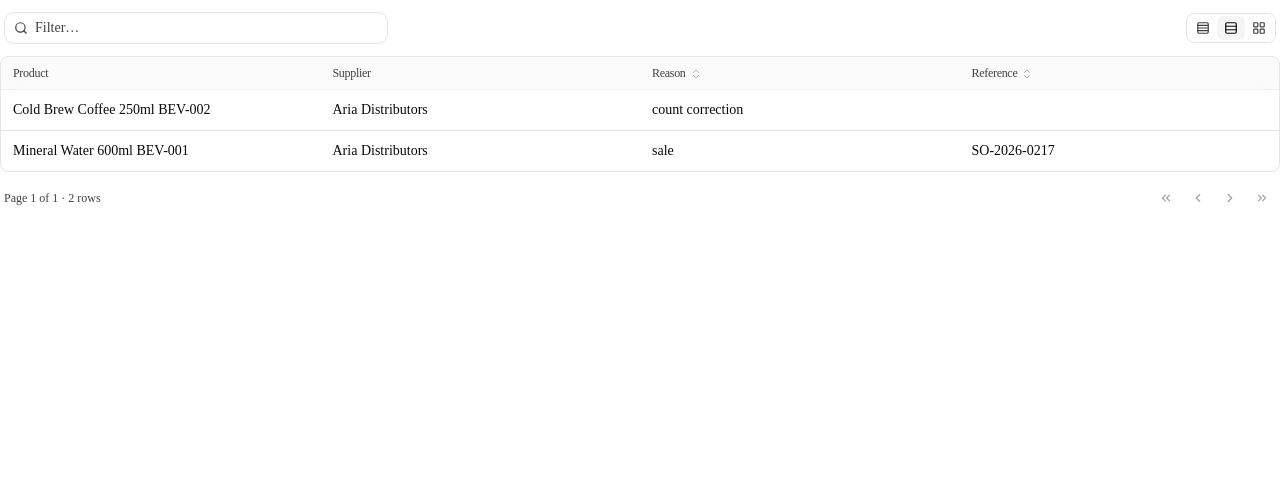
Test: DataTable global filter wiring › does not match on a uuid fragment
The width and height of the screenshot is (1280, 482).
Type "3f0a1c9e" into the field named "filter table" at (196, 28), box top-left (4, 12), bottom-right (388, 44)
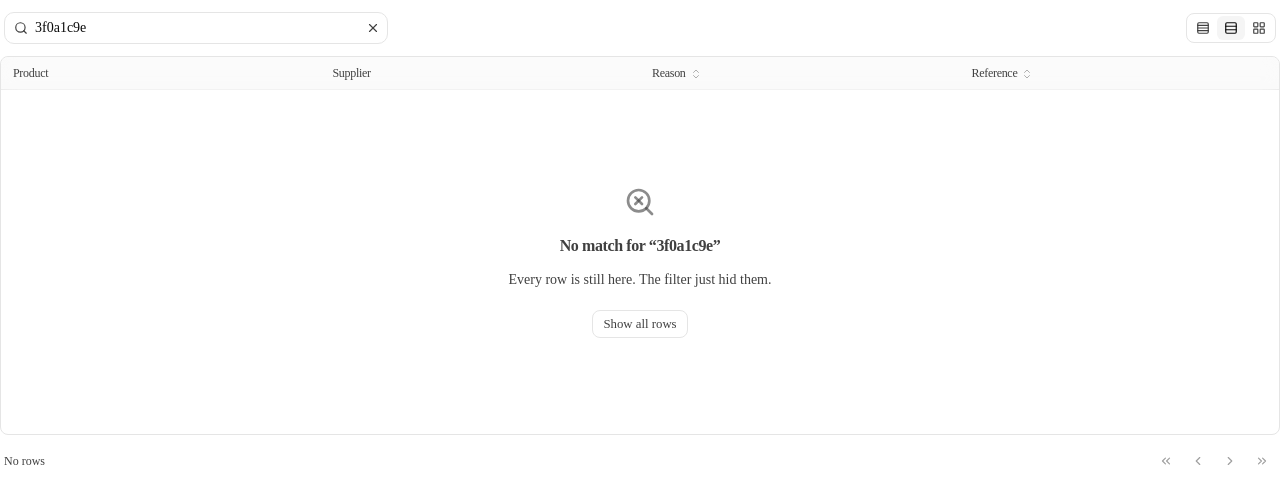
Expected: the text "Cold Brew Coffee" is gone
Expected: the text "Mineral Water 600ml" is gone
